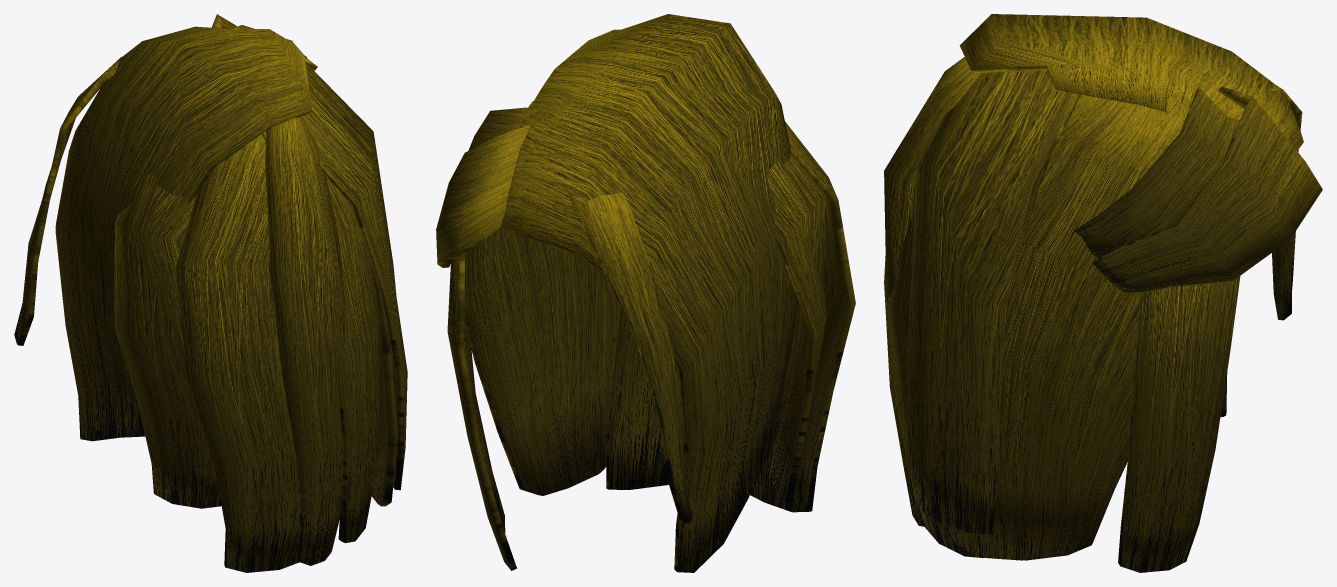
Rendered from Pelo_Americana.FBX.
3 renders of one model, left to right at view 1: azimuth 30°, elevation 25°; view 2: azimuth 150°, elevation 25°; view 3: azimuth 270°, elevation 25°, orthographic. The views are drawn at different scales.
Visible parts, largest first — view 1: Pelo; view 2: Pelo; view 3: Pelo.
Part boxes in pixels (x1,y1,x2,y2): Pelo: [14, 14, 407, 572]; Pelo: [436, 14, 855, 572]; Pelo: [884, 14, 1322, 572].
Bounding box in the file's own units: 33.66 × 51.62 × 41.74.
